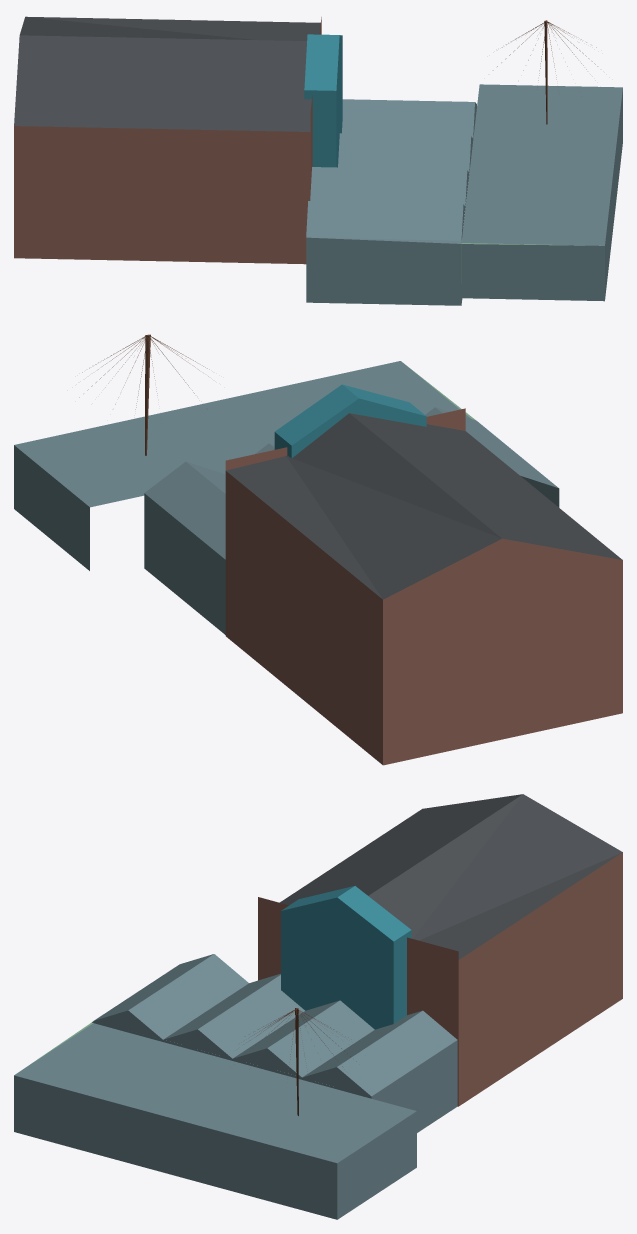
File: garage-noord.lod2.glb
3 views of the same model, one above another, from view 1: azimuth 30°, elevation 25°; view 2: azimuth 150°, elevation 25°; view 3: azimuth 270°, elevation 25° (orthographic). The views are drawn at different scales.
Visible parts, largest first — view 1: lod2; view 2: lod2; view 3: lod2.
Boxes of the visible parts, x1,y1,x2,y2 form: lod2: (14, 16, 622, 305); lod2: (14, 334, 622, 765); lod2: (14, 794, 622, 1219).
Bounding box in the file's own units: 27.39 × 8.5 × 24.87.
